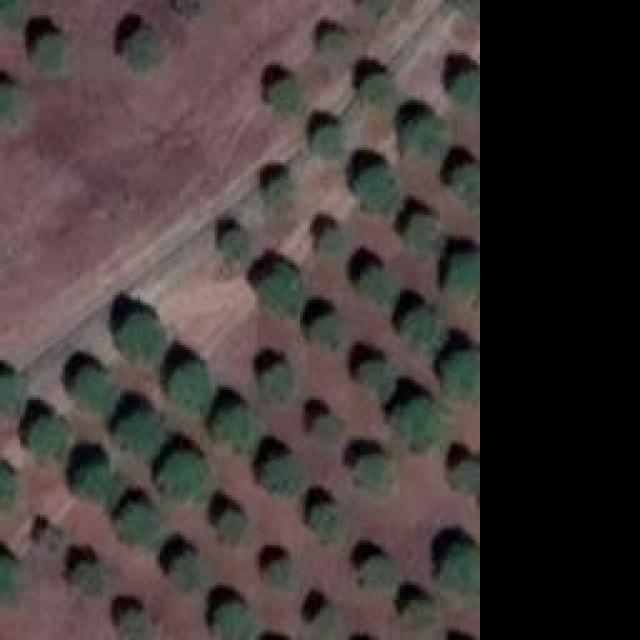Tree: (400, 400, 445, 448), (120, 315, 163, 363), (258, 270, 303, 315), (170, 363, 213, 408), (73, 368, 116, 413), (118, 413, 161, 456), (30, 415, 70, 460), (165, 458, 208, 498), (220, 408, 258, 453), (440, 550, 478, 593), (353, 168, 393, 208), (445, 352, 478, 400), (78, 468, 123, 503), (355, 452, 393, 490), (400, 118, 440, 153), (448, 255, 478, 298), (405, 310, 440, 345), (215, 605, 250, 640), (120, 505, 155, 540), (360, 270, 395, 303), (405, 215, 435, 253), (128, 30, 161, 63), (360, 363, 393, 396), (263, 458, 298, 488), (453, 165, 478, 203), (363, 75, 393, 105), (310, 505, 340, 535), (40, 38, 65, 73), (262, 365, 290, 395), (172, 555, 200, 585), (75, 562, 105, 590), (0, 378, 25, 411), (455, 70, 478, 105), (272, 80, 300, 108), (405, 597, 433, 625), (455, 463, 478, 496), (0, 85, 20, 120), (320, 227, 345, 255), (310, 315, 338, 340), (362, 558, 390, 583), (0, 560, 20, 595), (123, 610, 146, 640), (223, 230, 246, 258), (220, 515, 245, 540), (268, 560, 293, 585), (315, 128, 340, 151), (268, 178, 291, 203), (313, 415, 338, 438), (0, 0, 20, 25), (320, 33, 343, 53), (313, 608, 336, 628), (178, 0, 198, 15), (43, 528, 58, 543)
